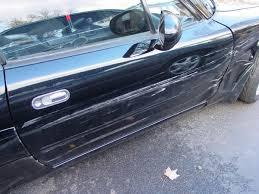doorouter-dent: (45, 17, 221, 160)
